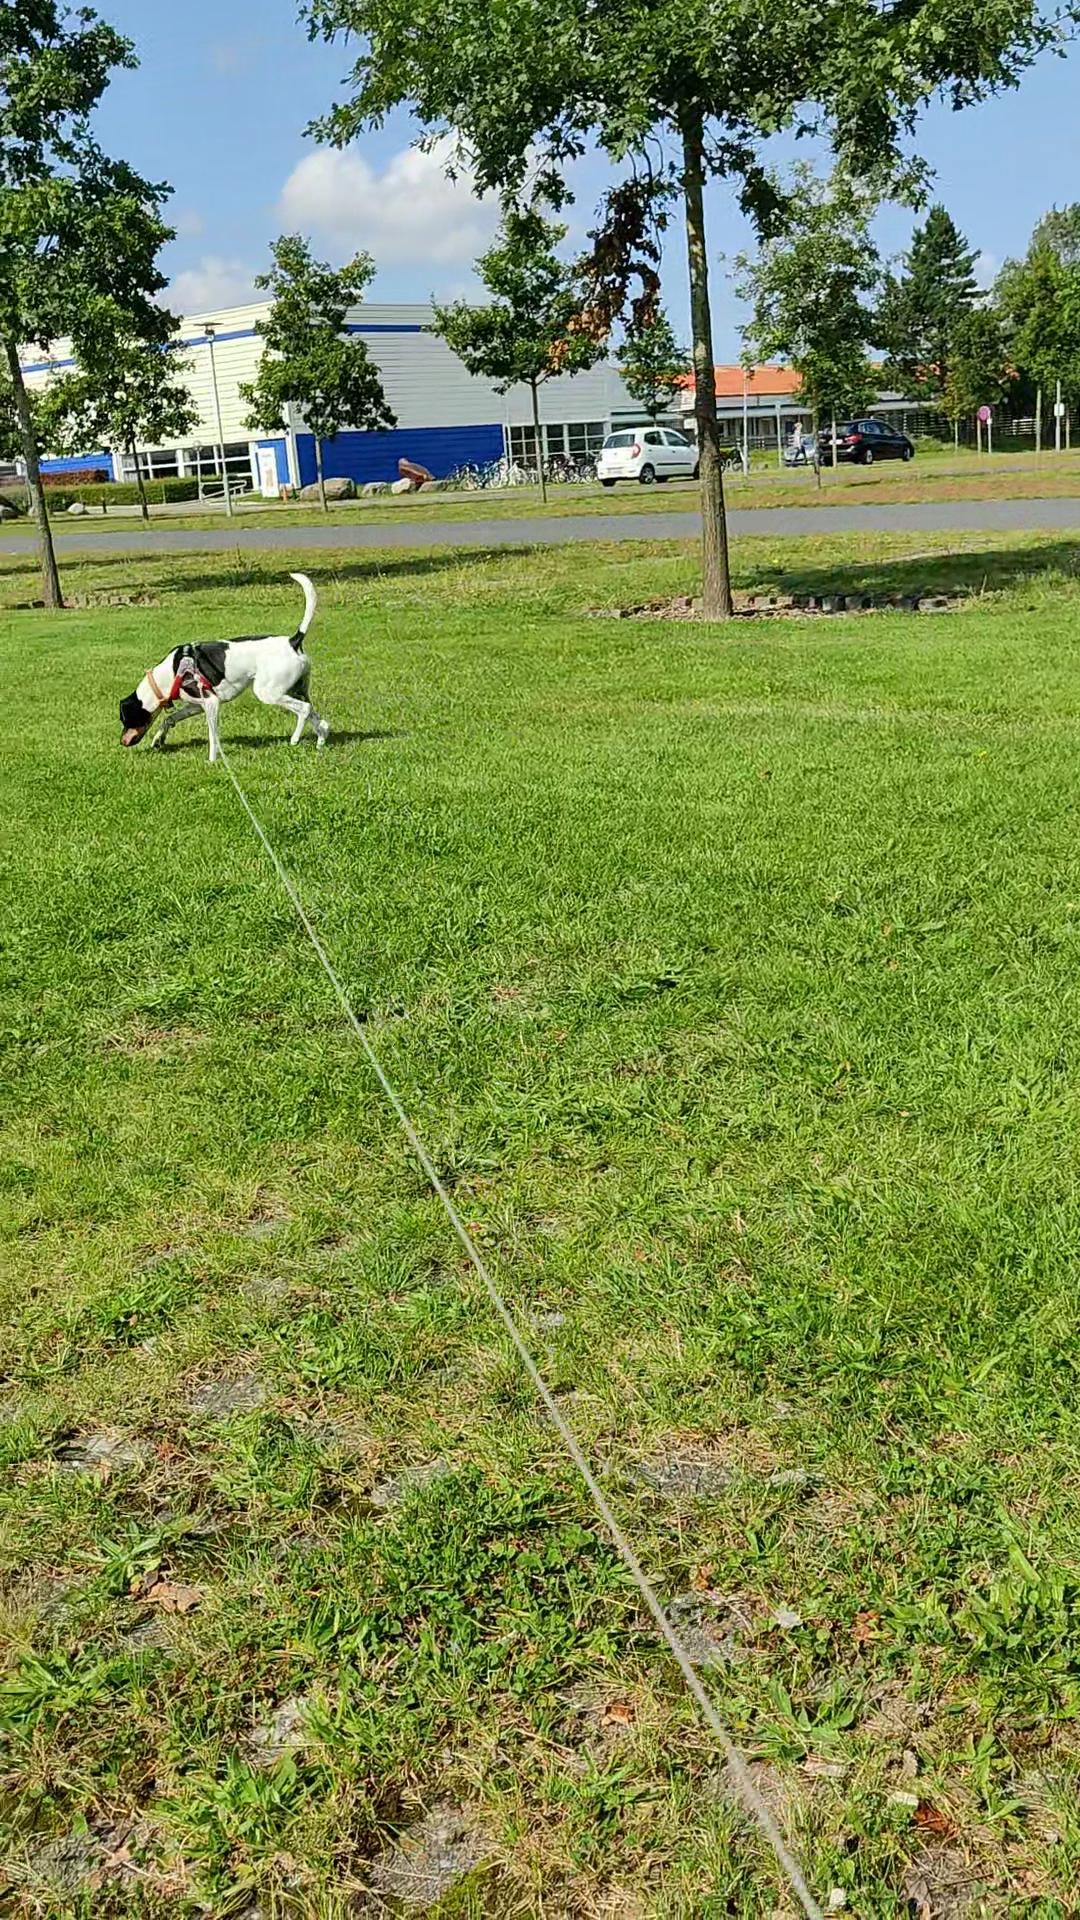Dog: (111, 567, 342, 765)
